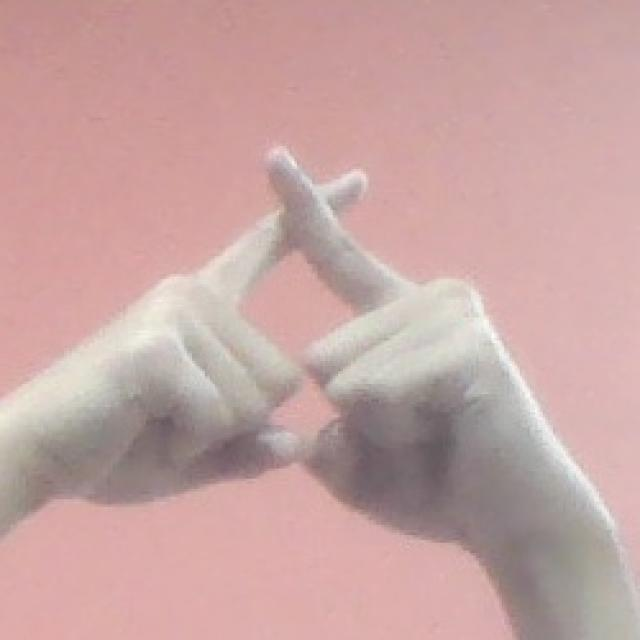Alphabet-X: (0, 136, 596, 573)
